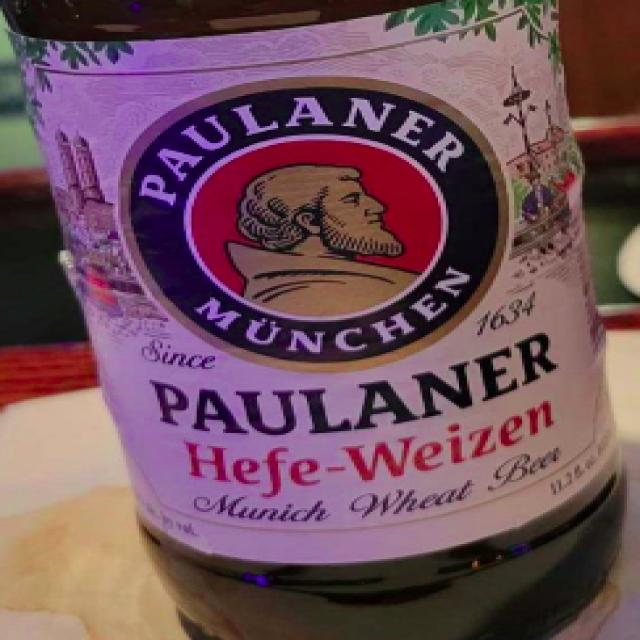Paulaner Weissbier Non-Alcoholic: (2, 0, 640, 640)
